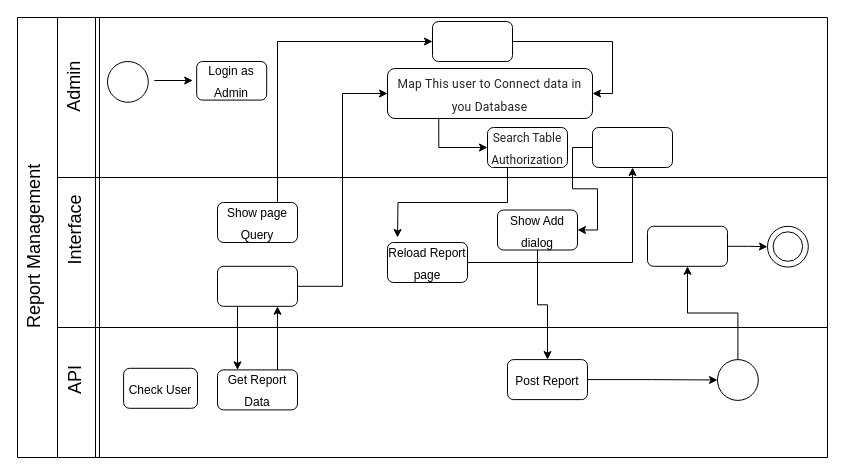
Image size: 846x475. Some labels were removed from this diagram. Each missing label, with the box of its shape:
Click Add button: (592, 126, 672, 168)
Reload page: (646, 225, 728, 266)
Search User Authorization: (432, 20, 512, 62)
Show Query Authorization: (216, 265, 298, 306)
